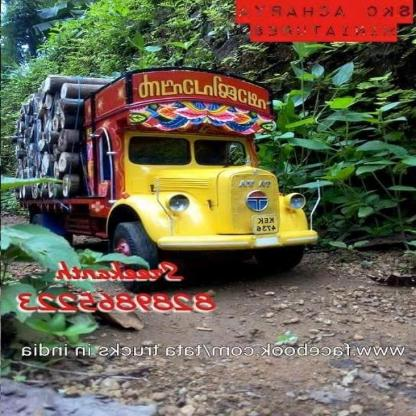truck: (18, 71, 322, 270)
